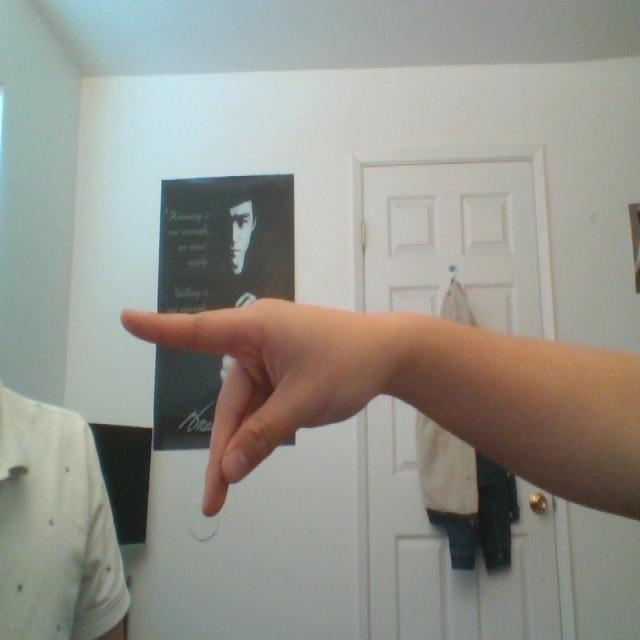P: (109, 264, 424, 519)
